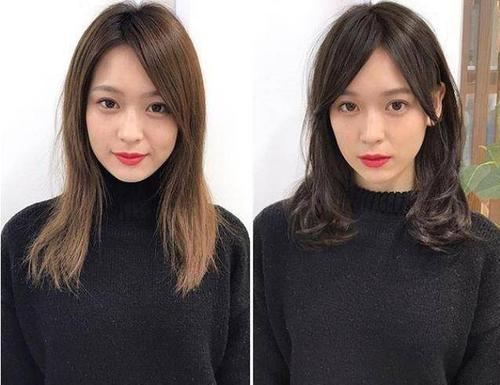no_mask: (296, 4, 450, 187), (55, 2, 202, 187)
